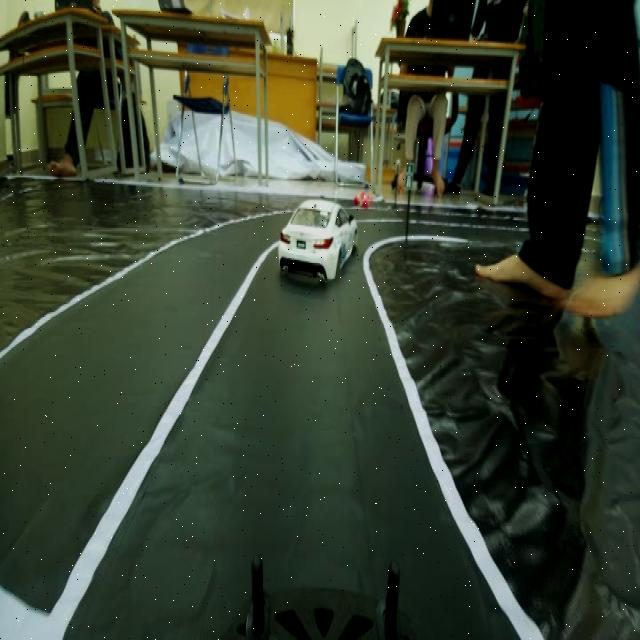car: (275, 194, 359, 283)
